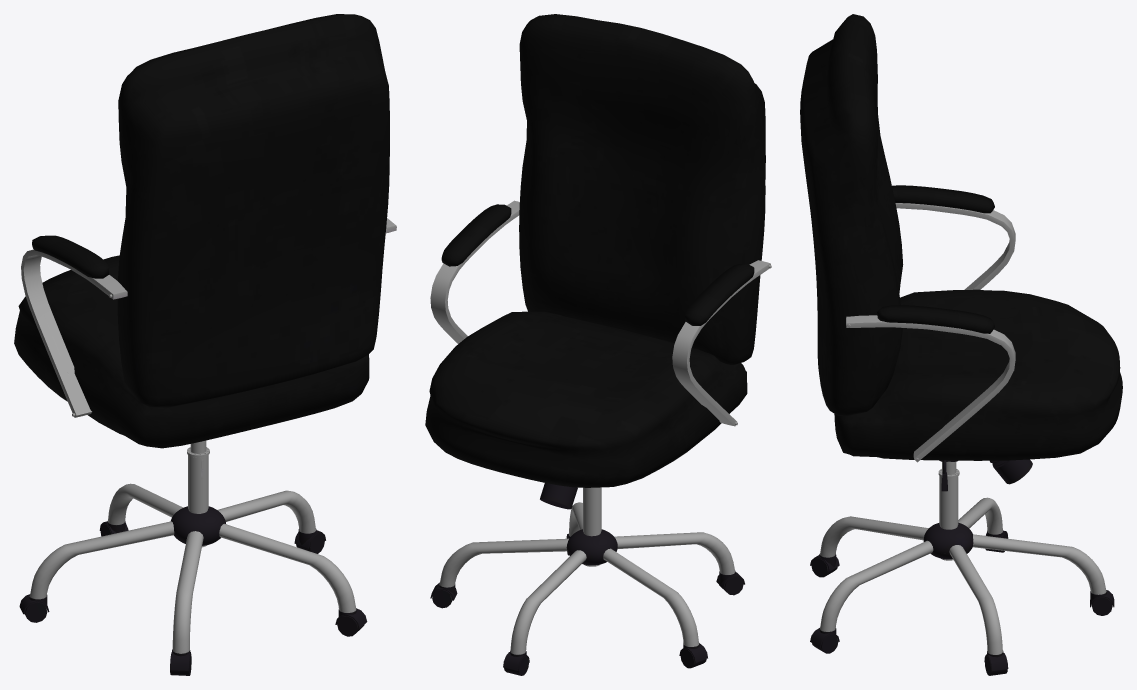
The model's file is chair.glb.
The picture shows the model from 3 angles, left to right: view 1: azimuth 30°, elevation 25°; view 2: azimuth 150°, elevation 25°; view 3: azimuth 270°, elevation 25°; orthographic projection. The views are drawn at different scales.
Visible parts, largest first — view 1: chair.001_low_CHAIR_0; view 2: chair.001_low_CHAIR_0; view 3: chair.001_low_CHAIR_0.
Part boxes in pixels (x1,y1,x2,y2): chair.001_low_CHAIR_0: (14, 14, 396, 675); chair.001_low_CHAIR_0: (425, 14, 771, 675); chair.001_low_CHAIR_0: (800, 14, 1122, 675).
Size of the model in its own units: 0.5809 by 1.12 by 0.5858.
Materials: 1 (1 with a texture image).
